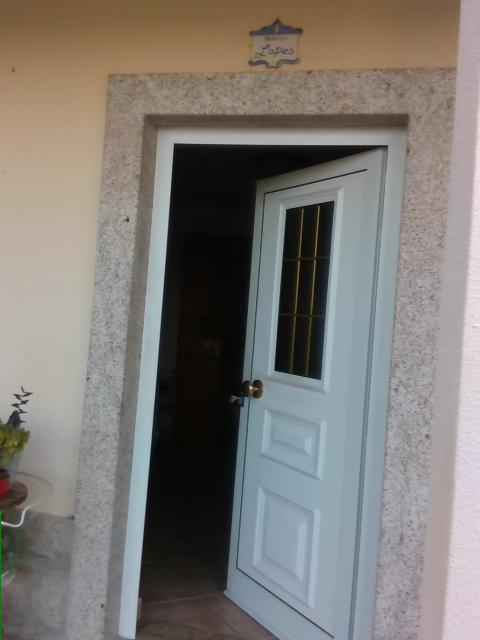door: (224, 147, 385, 639)
